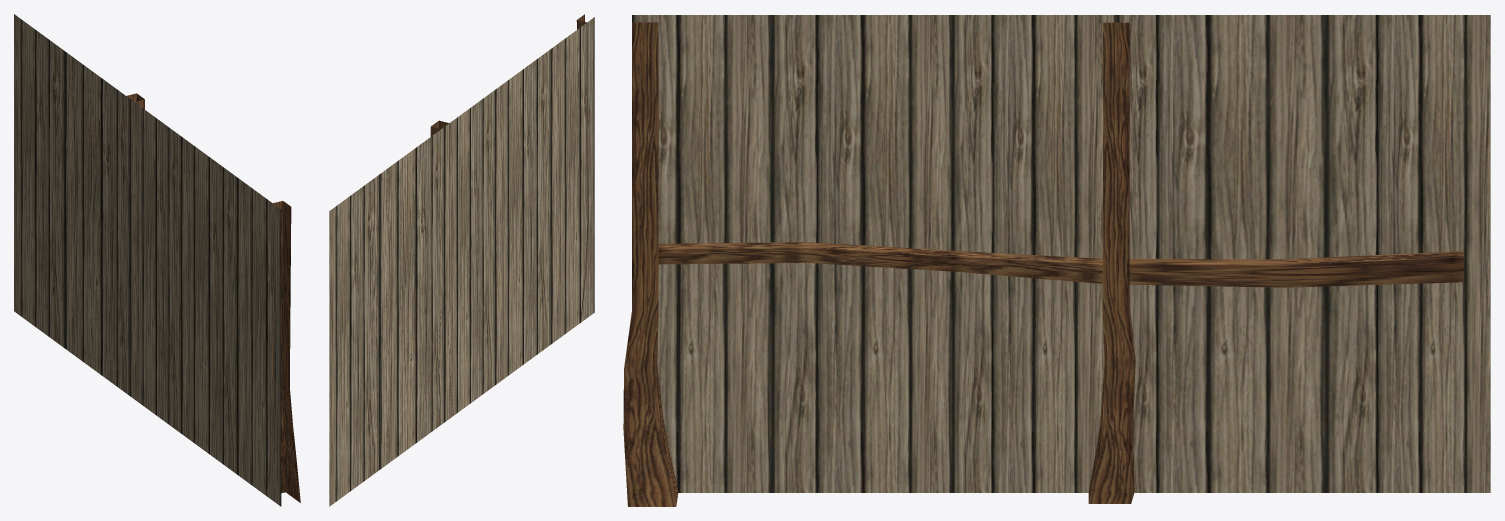
Rendered from LAKETOWN_PUB_PS_PUB_SIDEWALL938__GX.fbx.
The picture shows the model from 3 angles, left to right: view 1: azimuth 30°, elevation 25°; view 2: azimuth 150°, elevation 25°; view 3: azimuth 270°, elevation 25°; orthographic projection. The views are drawn at different scales.
Visible parts, largest first — view 1: LAKETOWN_PUB_PS_PUB_SIDEWALL938__GX; view 2: LAKETOWN_PUB_PS_PUB_SIDEWALL938__GX; view 3: LAKETOWN_PUB_PS_PUB_SIDEWALL938__GX.
Boxes of the visible parts, bbox=[...] form: LAKETOWN_PUB_PS_PUB_SIDEWALL938__GX: bbox=[14, 14, 300, 506]; LAKETOWN_PUB_PS_PUB_SIDEWALL938__GX: bbox=[329, 14, 594, 506]; LAKETOWN_PUB_PS_PUB_SIDEWALL938__GX: bbox=[623, 15, 1490, 506].
Size of the model in its own units: 3487 by 52810 by 86746.
Materials: 2 (2 with a texture image).
